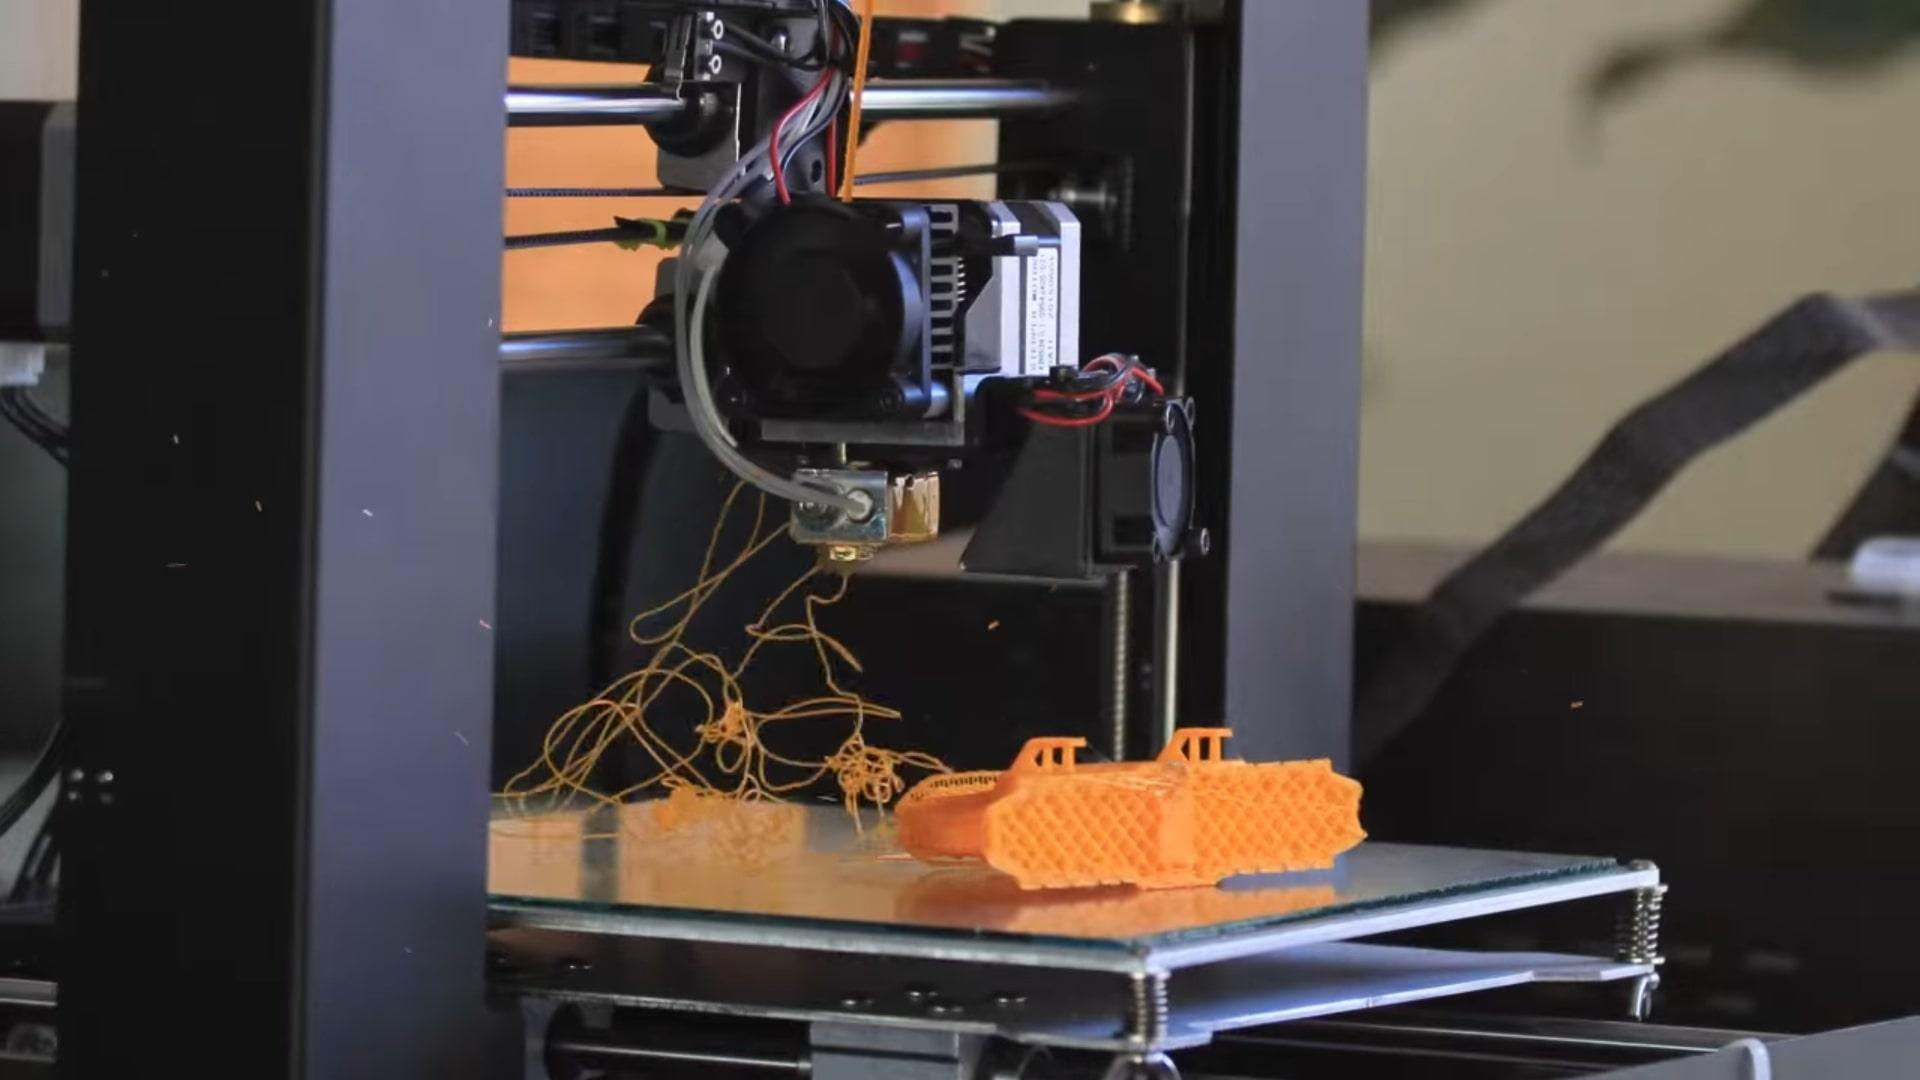Printing-Artifact: (534, 458, 907, 862)
